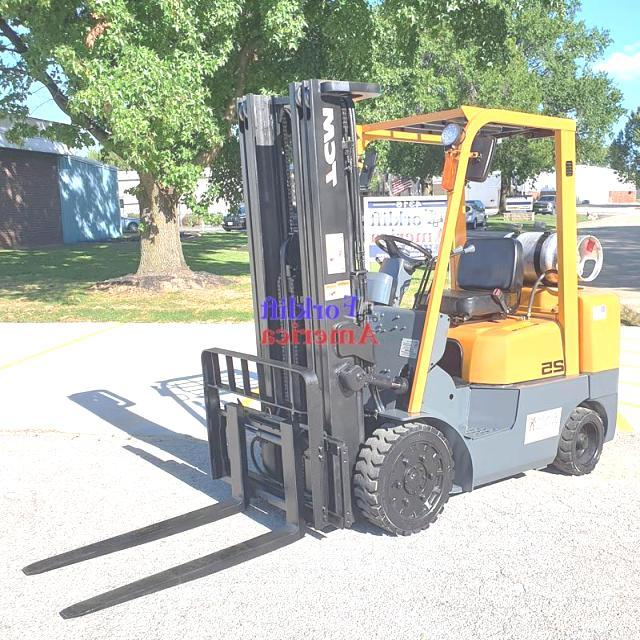forklift: (155, 59, 634, 554)
